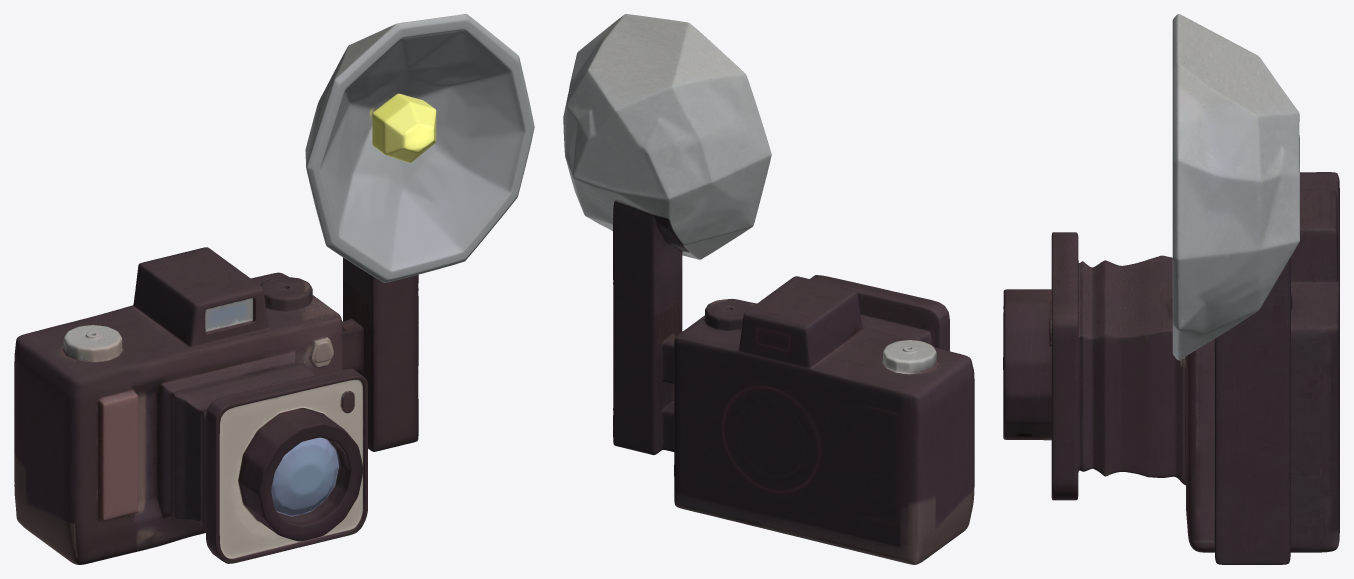
File: accessories_set_5_item_20.glb
3 renders of one model, left to right at view 1: azimuth 30°, elevation 25°; view 2: azimuth 150°, elevation 25°; view 3: azimuth 270°, elevation 25°, orthographic. The views are drawn at different scales.
Bounding box in the file's own units: 1.9 × 1.88 × 1.
1 material, 1 textured.
